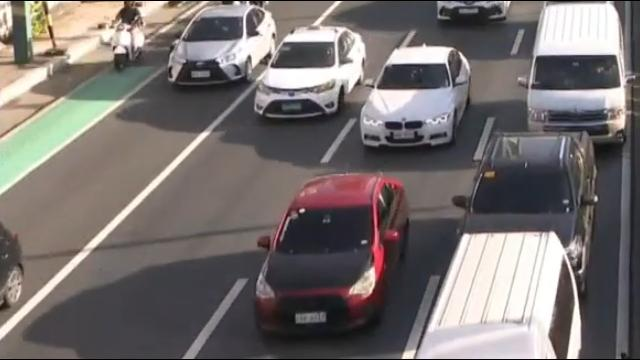car: (255, 172, 410, 337), (357, 45, 477, 151), (253, 25, 365, 120), (165, 6, 273, 88), (431, 0, 511, 23)
motorcycle: (106, 1, 151, 73)
pickup-truck: (453, 131, 604, 274)
van: (414, 233, 581, 360), (520, 1, 629, 140)
